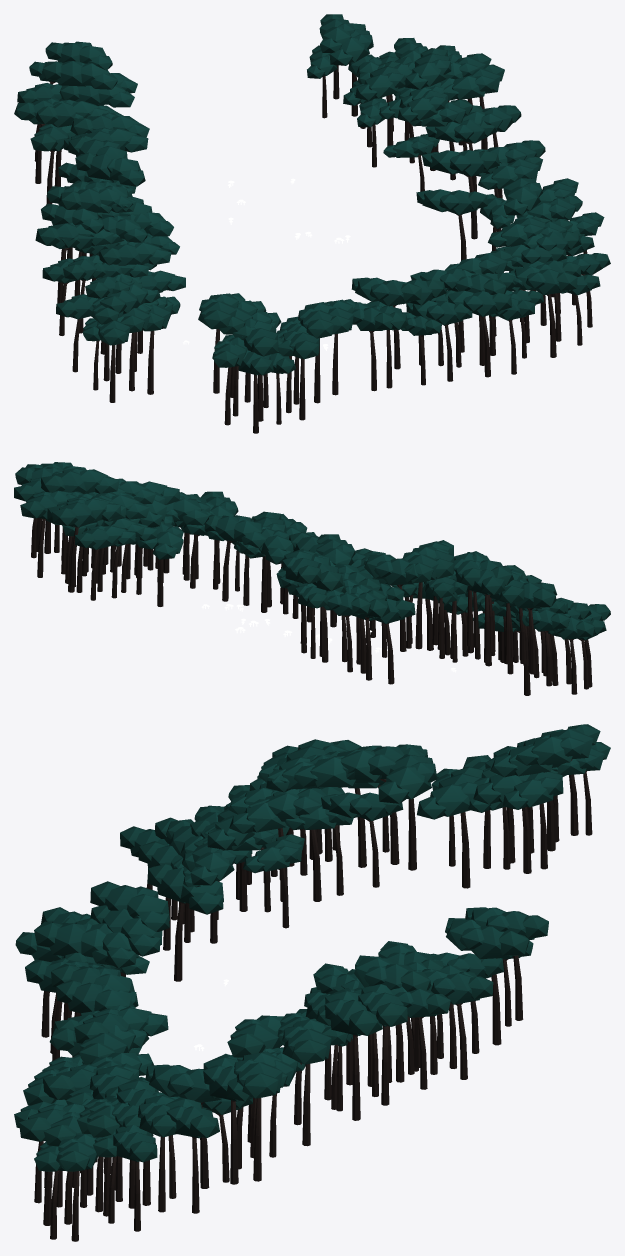
The model's file is wilderness_forest.glb.
3 renders of one model, top to bottom at view 1: azimuth 30°, elevation 25°; view 2: azimuth 150°, elevation 25°; view 3: azimuth 270°, elevation 25°, orthographic. The views are drawn at different scales.
Parts seen in each view (by area): view 1: WildernessTree_z1_69, WildernessTree_z0_00, WildernessTree_g0_99, WildernessTree_g1_111, WildernessTree_g2_115, WildernessTree_z1_73, WildernessTree_z0_41, WildernessTree_g0_87, WildernessTree_z0_15, WildernessTree_z1_59, WildernessTree_g2_116, WildernessTree_z0_08 (+69 smaller); view 2: WildernessTree_z2_86, WildernessTree_g0_90, WildernessTree_z1_65, WildernessTree_z2_83, WildernessTree_z0_54, WildernessTree_g2_121, WildernessTree_z2_84, WildernessTree_z1_76, WildernessTree_z0_44, WildernessTree_z0_10, WildernessTree_g2_118, WildernessTree_g1_111 (+48 smaller); view 3: WildernessTree_z2_85, WildernessTree_z2_83, WildernessTree_z0_31, WildernessTree_g2_121, WildernessTree_z2_80, WildernessTree_z1_73, WildernessTree_g1_112, WildernessTree_z1_79, WildernessTree_z0_15, WildernessTree_g0_100, WildernessTree_z1_65, WildernessTree_z0_16 (+61 smaller).
Part boxes in pixels (x1,y1,x2,y2): WildernessTree_z1_69: (422, 150, 499, 239); WildernessTree_z0_00: (351, 277, 421, 369); WildernessTree_g0_99: (509, 266, 577, 357); WildernessTree_g1_111: (416, 189, 487, 260); WildernessTree_g2_115: (42, 61, 117, 89); WildernessTree_z1_73: (443, 64, 504, 149); WildernessTree_z0_41: (75, 152, 145, 186); WildernessTree_g0_87: (448, 290, 512, 377); WildernessTree_z0_15: (198, 293, 245, 393); WildernessTree_z1_59: (355, 61, 405, 145); WildernessTree_g2_116: (35, 99, 109, 186); WildernessTree_z0_08: (406, 300, 472, 381); WildernessTree_z2_86: (52, 498, 121, 587); WildernessTree_g0_90: (204, 514, 266, 601); WildernessTree_z1_65: (41, 468, 119, 560); WildernessTree_z2_83: (363, 553, 424, 651); WildernessTree_z0_54: (402, 546, 449, 649); WildernessTree_g2_121: (282, 548, 321, 644); WildernessTree_z2_84: (75, 525, 135, 600); WildernessTree_z1_76: (20, 490, 71, 577); WildernessTree_z0_44: (514, 578, 556, 674); WildernessTree_z0_10: (258, 528, 293, 612); WildernessTree_g2_118: (323, 590, 370, 672); WildernessTree_g1_111: (152, 521, 183, 606); WildernessTree_z2_85: (445, 918, 528, 1045); WildernessTree_z2_83: (378, 748, 437, 870); WildernessTree_z0_31: (147, 864, 223, 981); WildernessTree_g2_121: (515, 724, 600, 835); WildernessTree_z2_80: (417, 766, 483, 888); WildernessTree_z1_73: (324, 987, 382, 1120); WildernessTree_g1_112: (234, 1050, 282, 1181); WildernessTree_z1_79: (282, 1018, 331, 1146); WildernessTree_z0_15: (90, 881, 169, 976); WildernessTree_g0_100: (145, 1064, 221, 1188); WildernessTree_z1_65: (354, 955, 430, 1082); WildernessTree_z0_16: (34, 921, 112, 1019).
Bounding box in the file's own units: 33.26 × 14.87 × 25.2.
